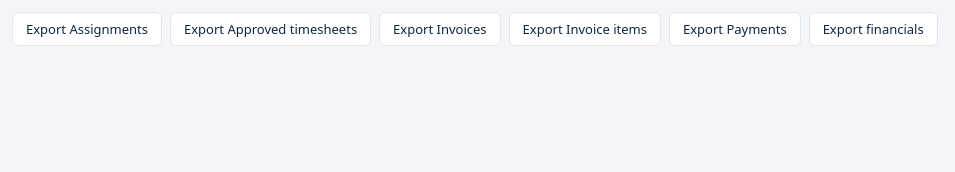
DashboardExports › displays an error message when export fails without disabling other interactions permanently
Step 1. Click the button "Export financials" → (873, 29), box left=809, top=12, right=938, bottom=46
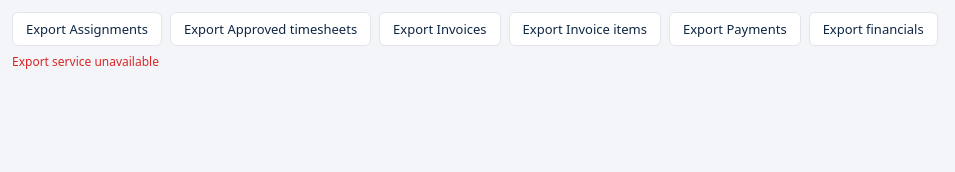
Check: the text "Export service unavailable" is shown, box left=12, top=53, right=159, bottom=70
